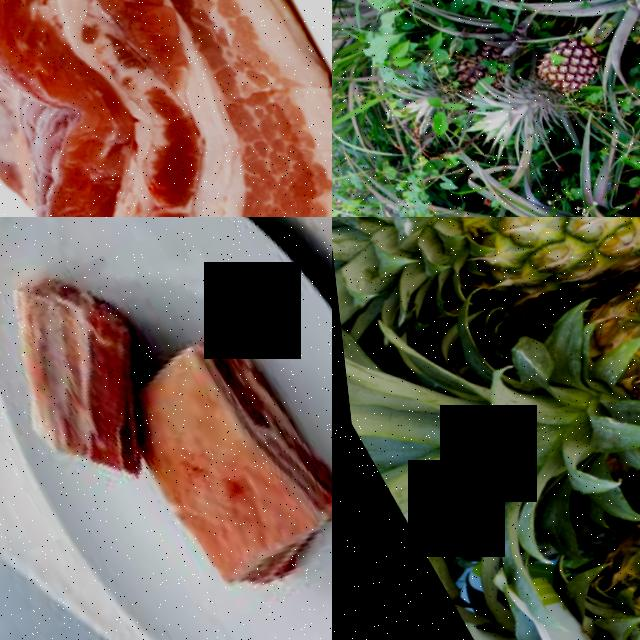pineapple: (393, 217, 640, 576), (457, 293, 640, 640), (332, 217, 640, 420), (500, 10, 610, 107)
pork belly: (0, 0, 332, 217), (111, 346, 332, 604), (0, 235, 190, 503)
